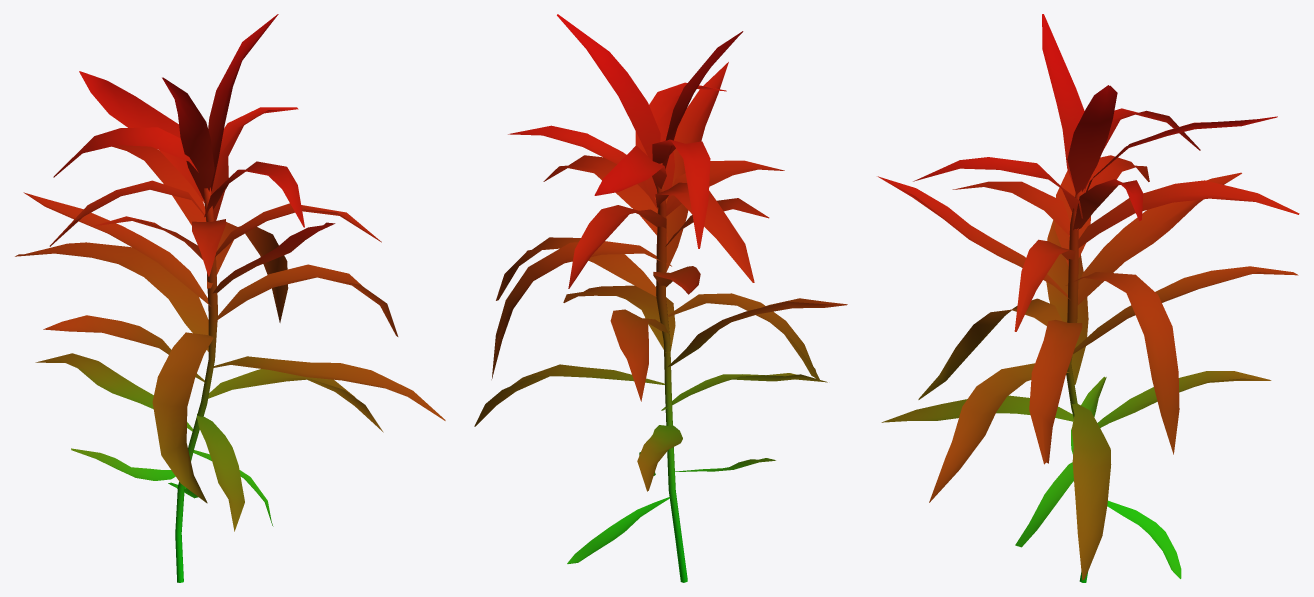
The model's file is Butterfly Weed_LOD1_Var13.fbx.
3 views of the same model, side by side, from view 1: azimuth 30°, elevation 25°; view 2: azimuth 150°, elevation 25°; view 3: azimuth 270°, elevation 25° (orthographic). The views are drawn at different scales.
Visible parts, largest first — view 1: _zixd_Var13_LOD1; view 2: _zixd_Var13_LOD1; view 3: _zixd_Var13_LOD1.
Part boxes in pixels (<box>): _zixd_Var13_LOD1: <box>15,14,445,582</box>; _zixd_Var13_LOD1: <box>474,14,847,582</box>; _zixd_Var13_LOD1: <box>877,14,1299,582</box>.
Bounding box in the file's own units: 27.93 × 40.46 × 28.05.
